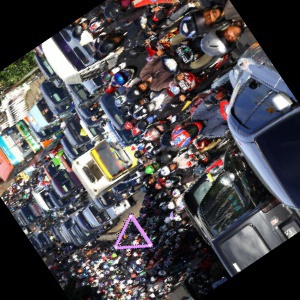triangle: (110, 211, 155, 251)
